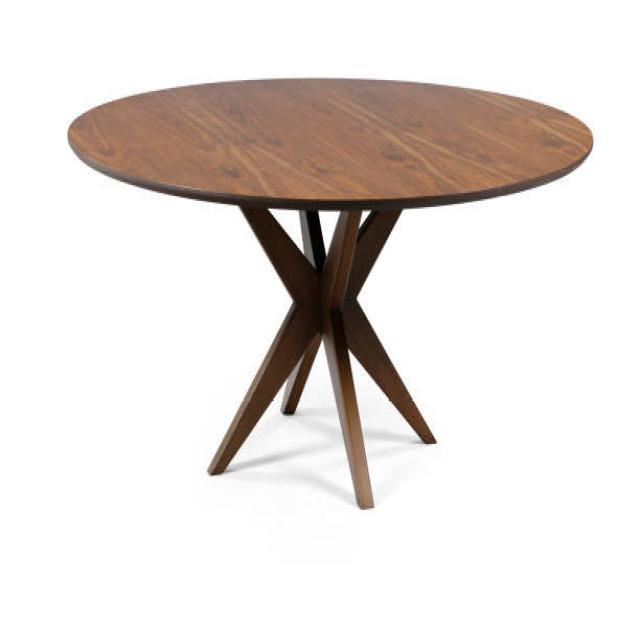table: (66, 75, 593, 510)
